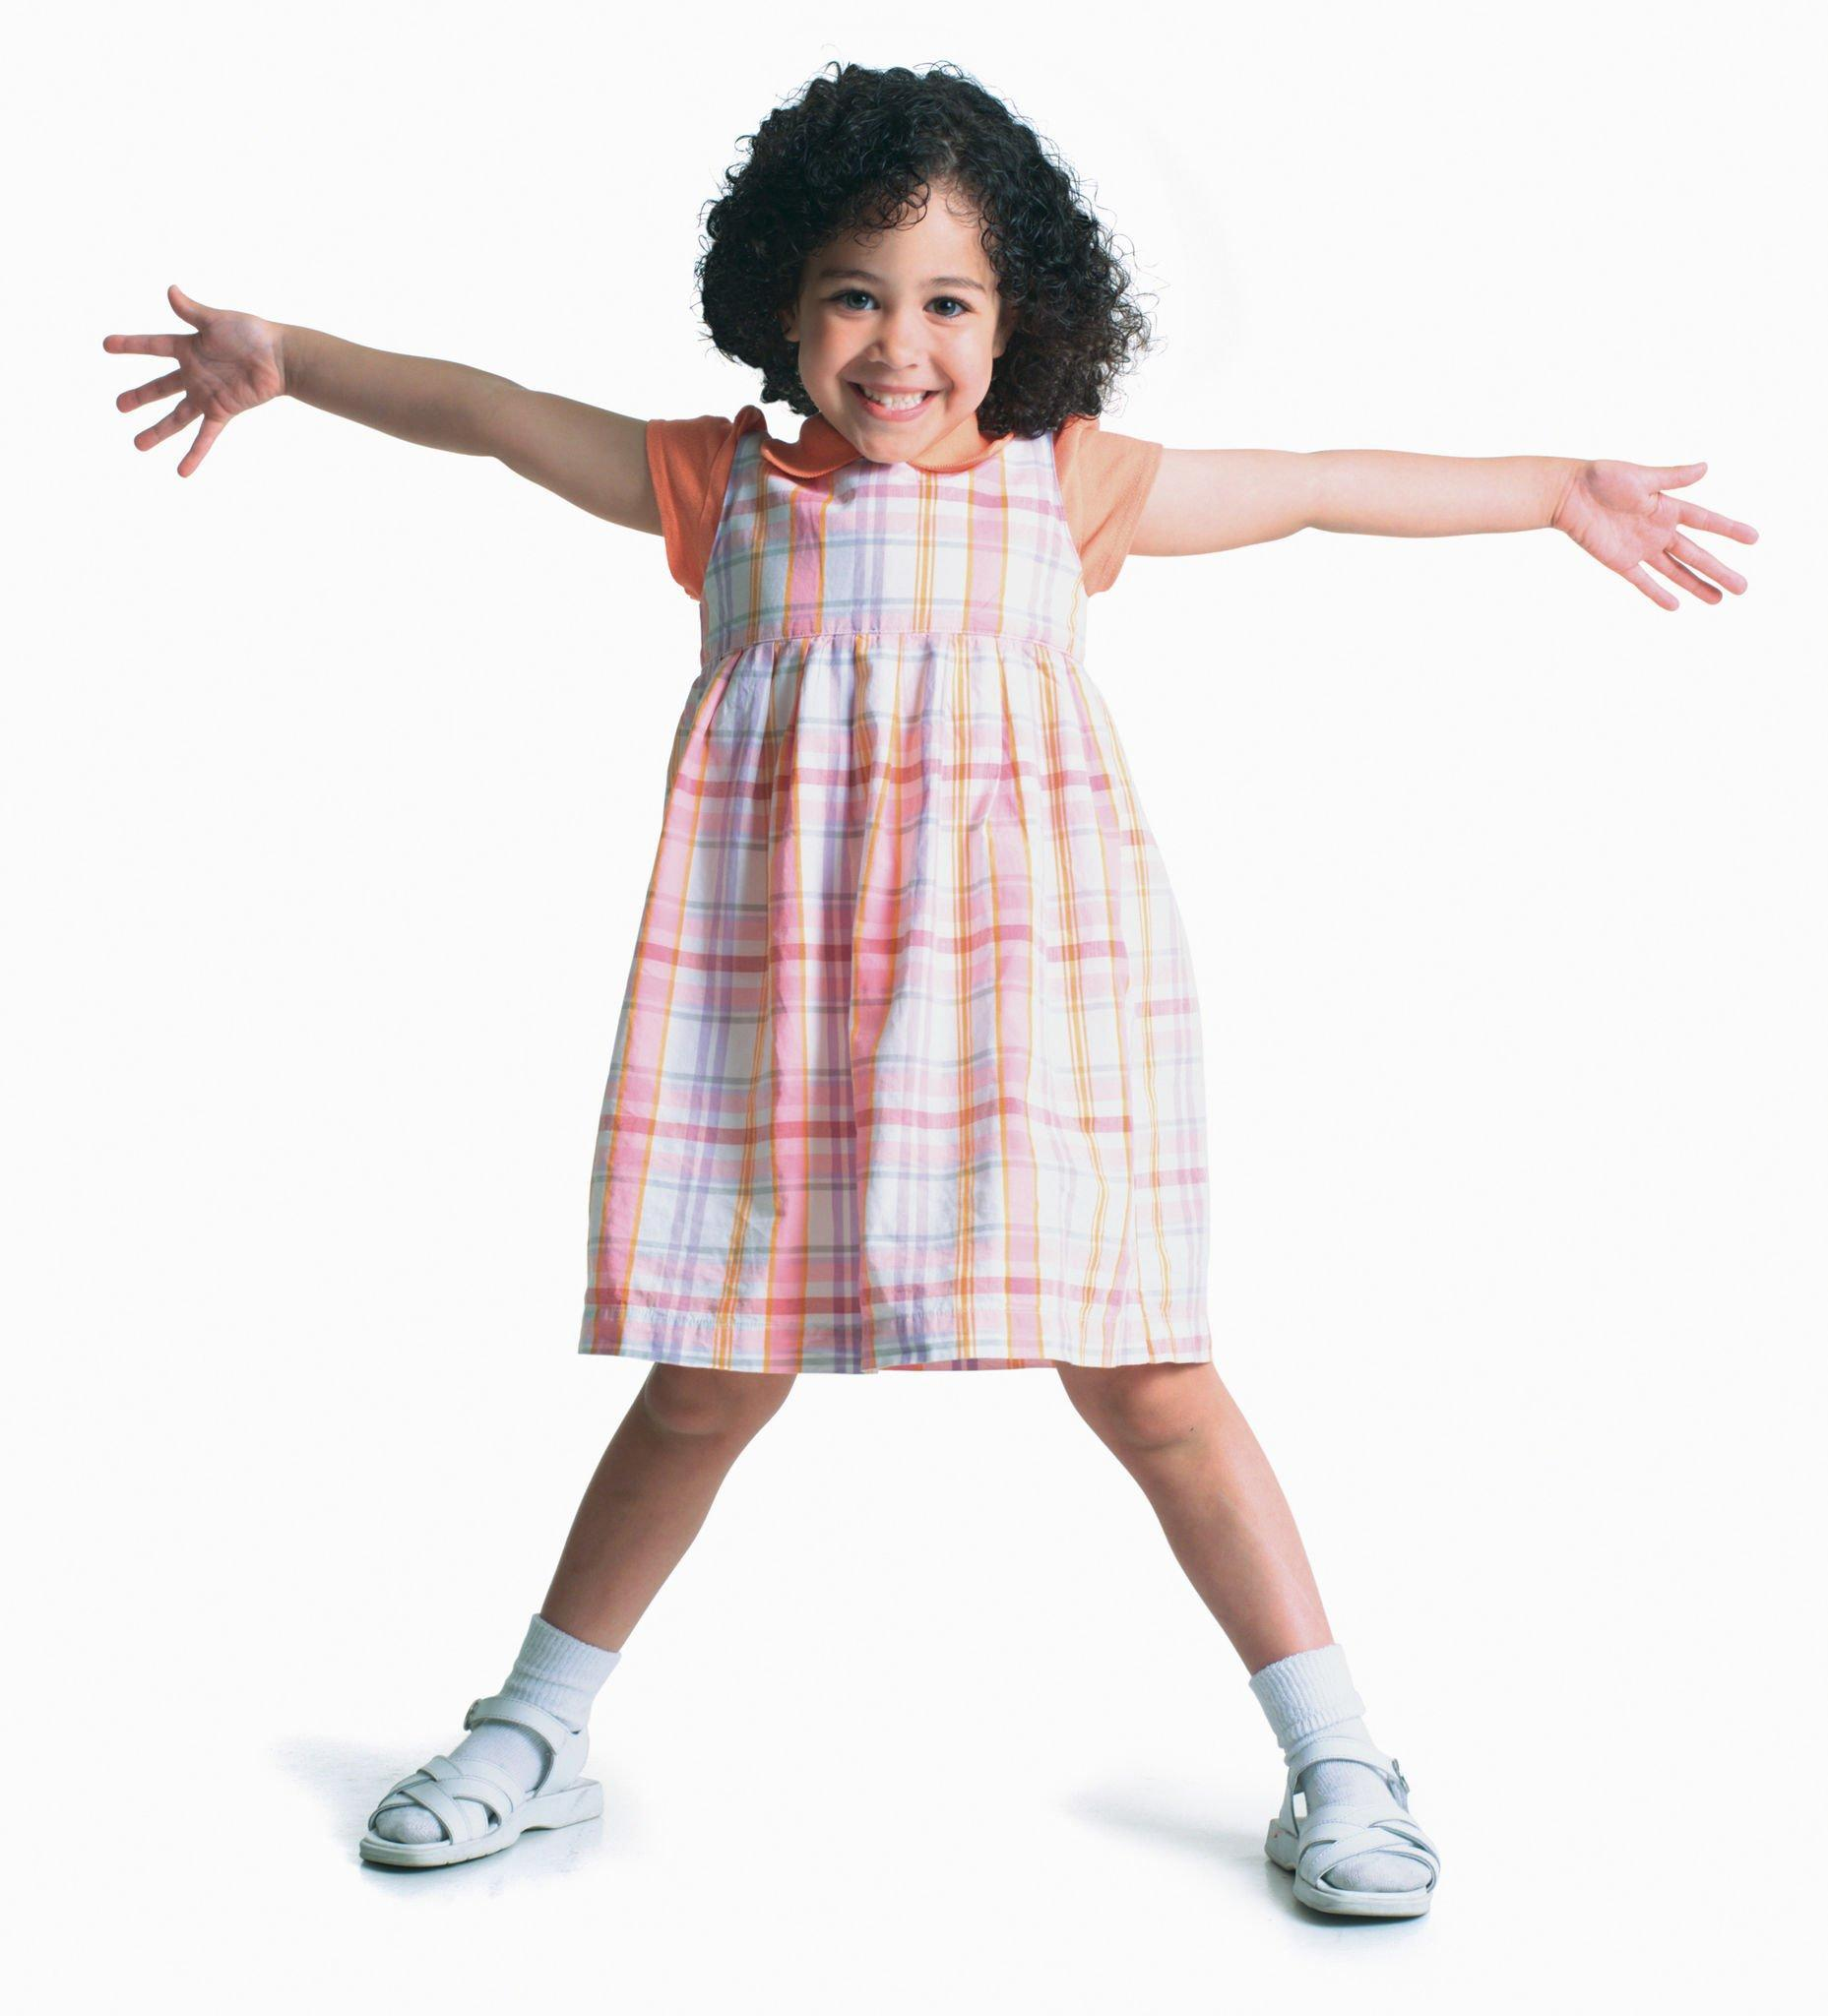Healthy: (720, 61, 1094, 518)
